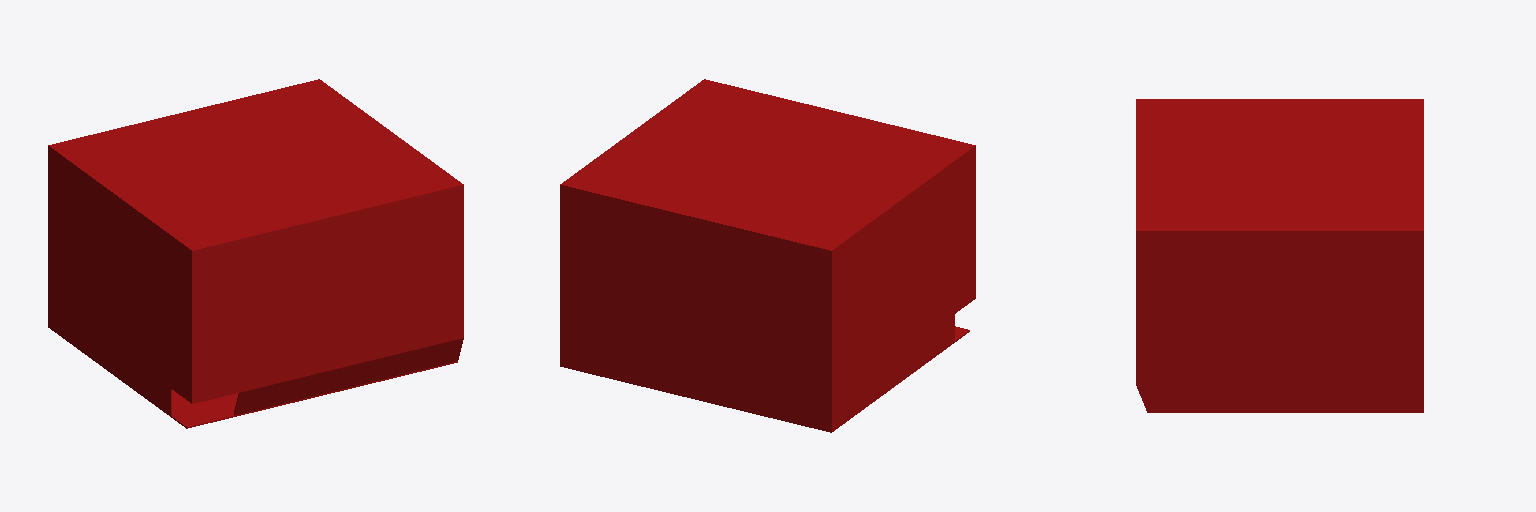
Rendered from Background_2.obj.
3 views of the same model, side by side, from view 1: azimuth 30°, elevation 25°; view 2: azimuth 150°, elevation 25°; view 3: azimuth 270°, elevation 25° (orthographic).
Parts seen in each view (by area): view 1: Box047; view 2: Box047; view 3: Box047.
Boxes of the visible parts, x1=… form: Box047: x1=48, y1=79, x2=463, y2=428; Box047: x1=560, y1=79, x2=975, y2=432; Box047: x1=1136, y1=99, x2=1423, y2=412.
Size of the model in its own units: 23.62 by 15.12 by 21.73.